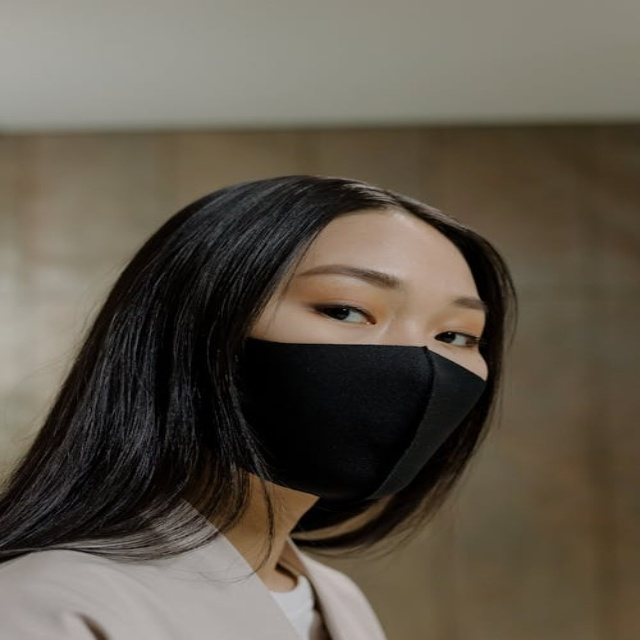Mascara: (232, 337, 487, 509)
Sin_gafas: (291, 259, 492, 351)
